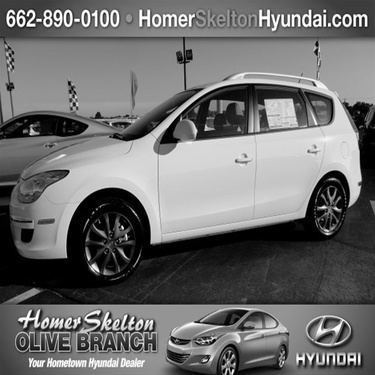car: (20, 70, 368, 262), (1, 91, 125, 165), (154, 300, 288, 366)
